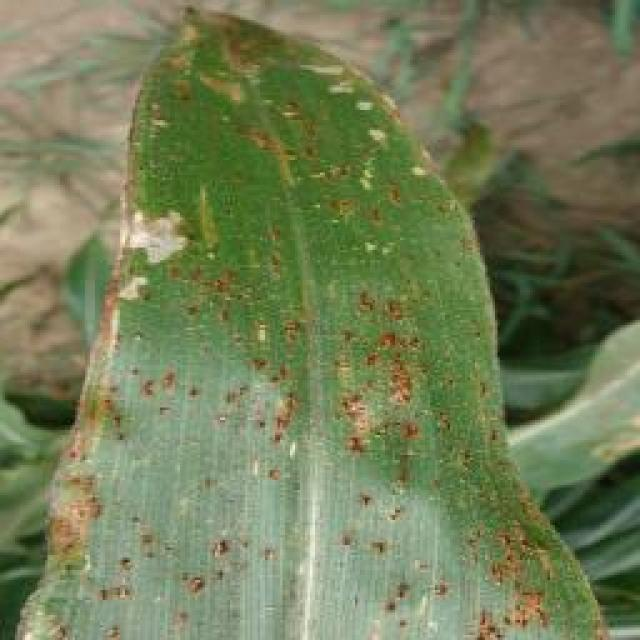Corn Common Rust: (125, 86, 495, 592)
